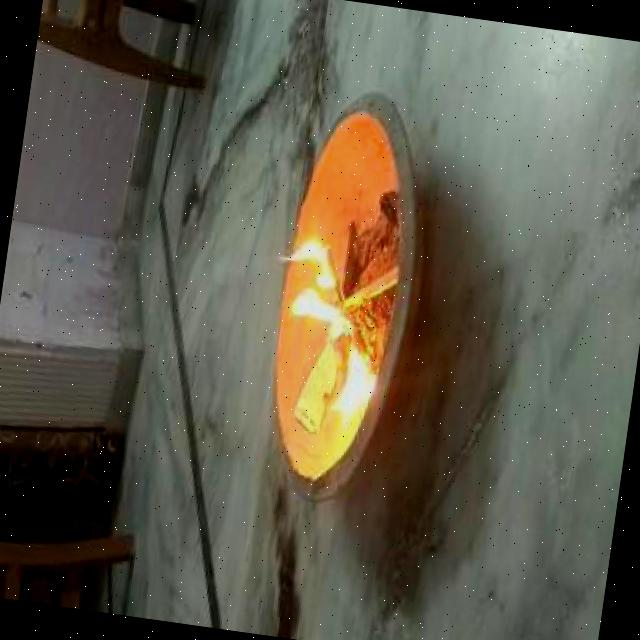fire: (266, 212, 410, 424)
